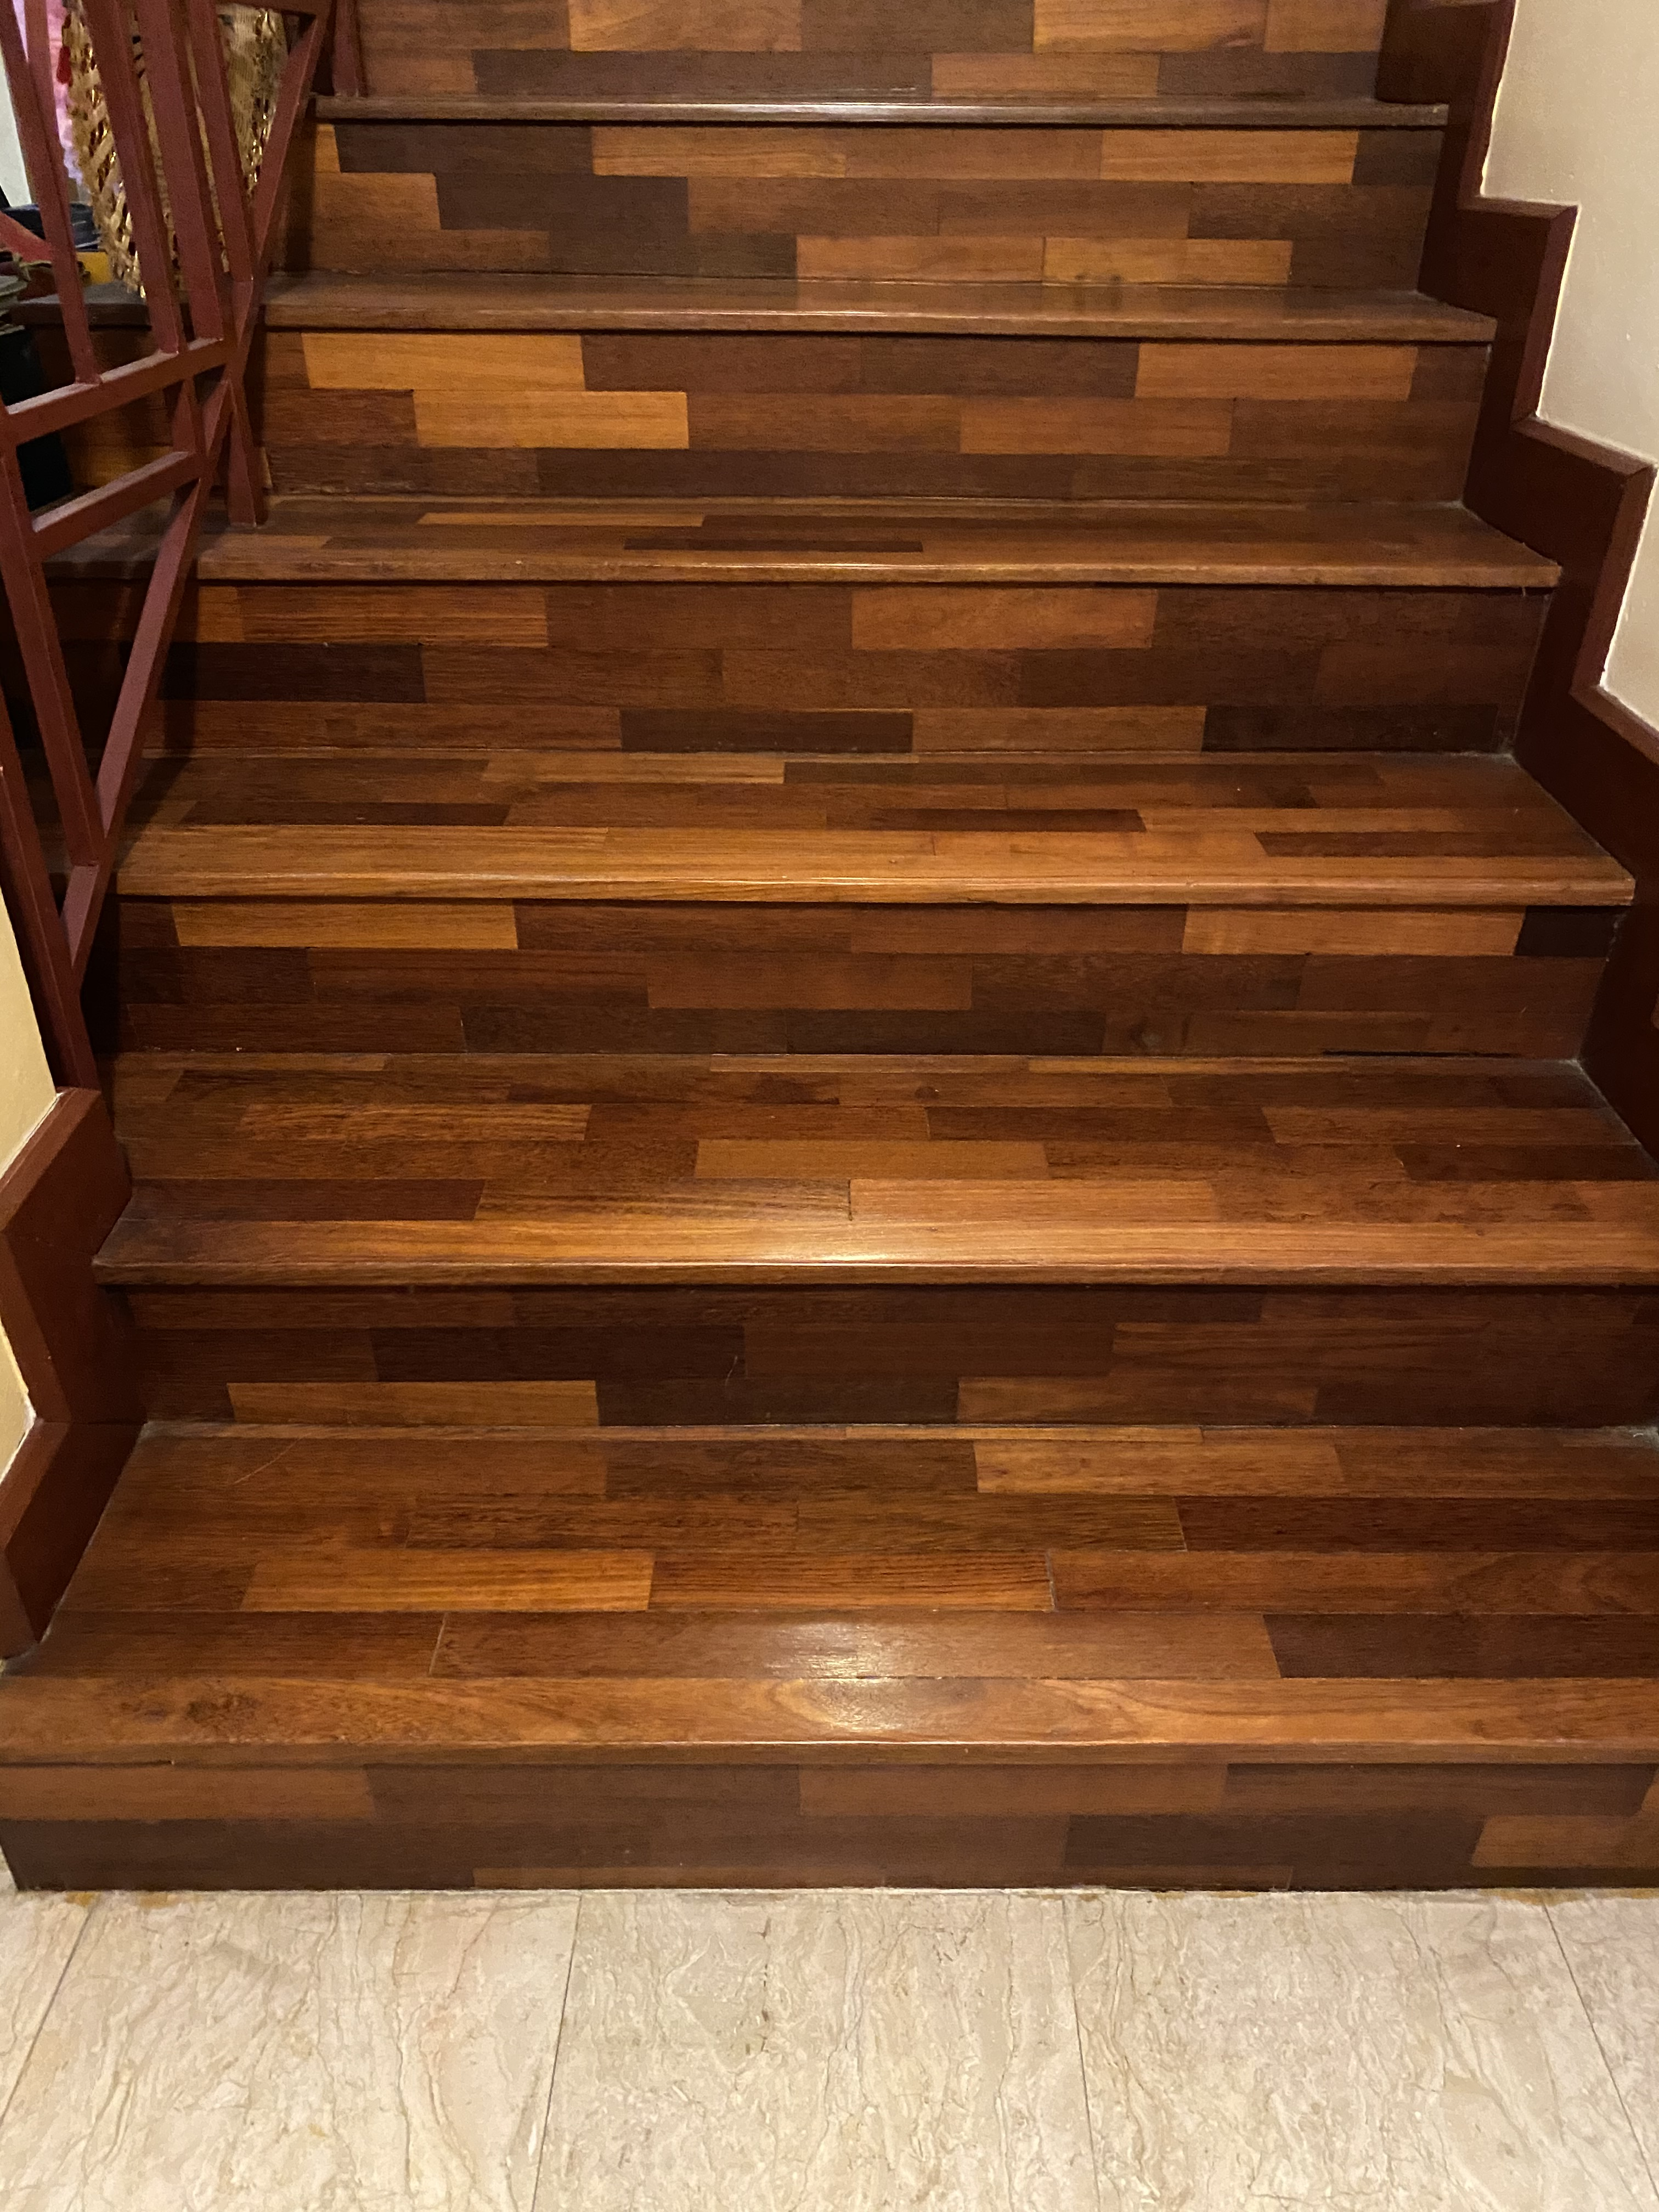upstairs: (164, 721, 1591, 2027)
